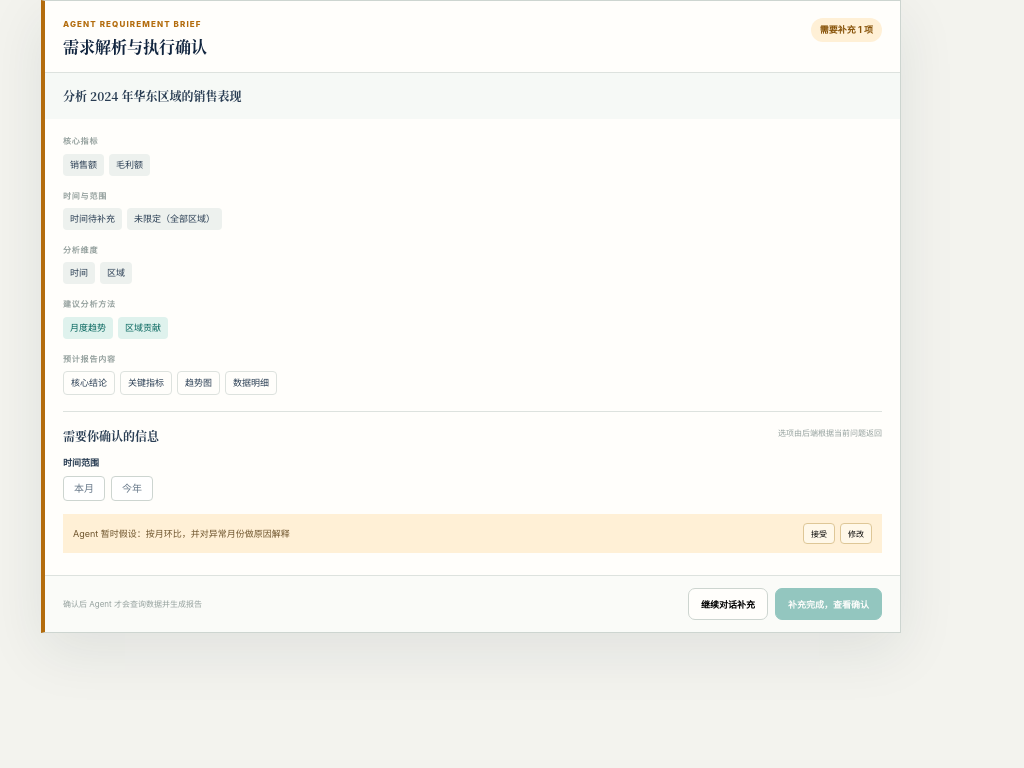
Scenario: RequirementCardView — prototype structure › review button disabled until field selected AND assumption resolved
Expected: the button "补充完成，查看确认" is disabled, [775,588,882,620]
// select the pill option — still disabled (assumption unresolved)
Click the radio button "今年" at (132, 489), box [111,476,153,501]
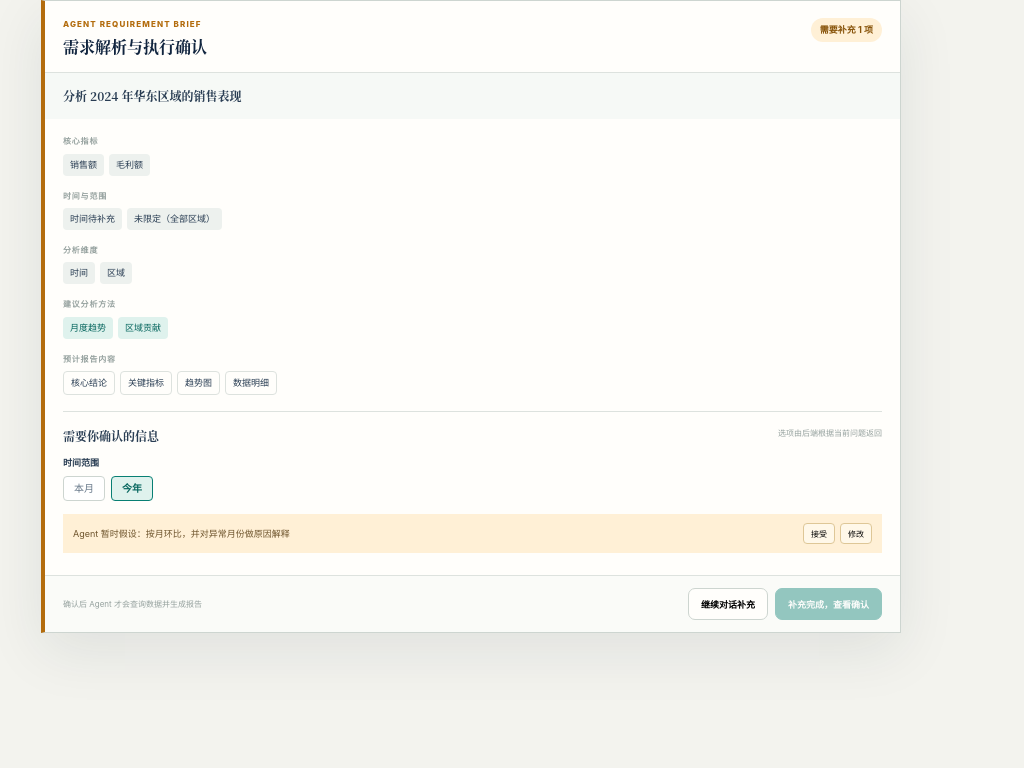
Expected: the button "补充完成，查看确认" is disabled, [775,588,882,620]
// accept the assumption — now enabled
Click the button "接受" at (819, 534), box [803,523,835,544]
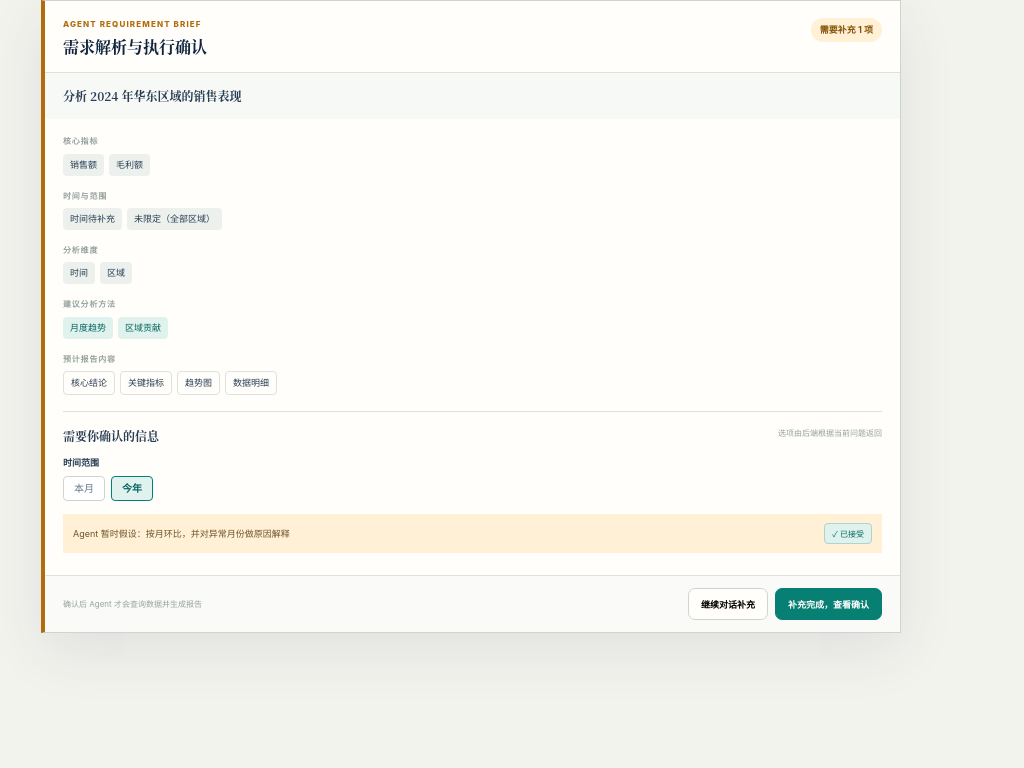
Now the button "补充完成，查看确认" is enabled, box [775,588,882,620]
